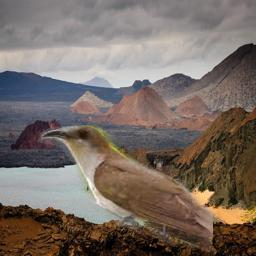Cuckoo: (38, 125, 213, 254)
